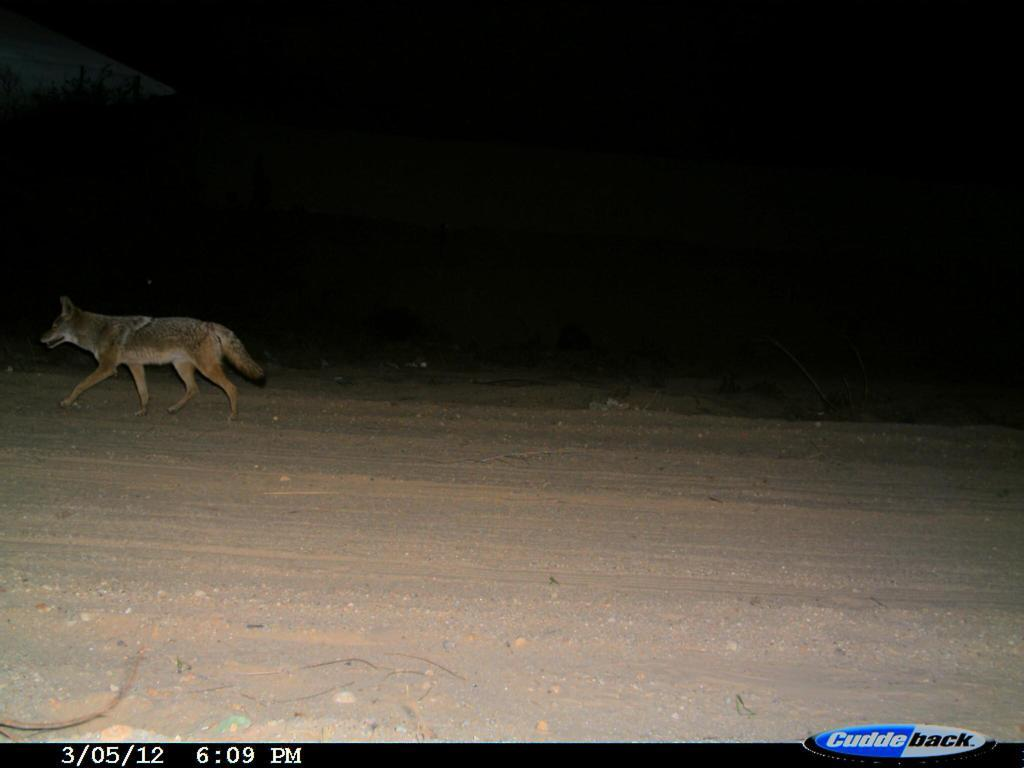coyote: (38, 295, 269, 428)
